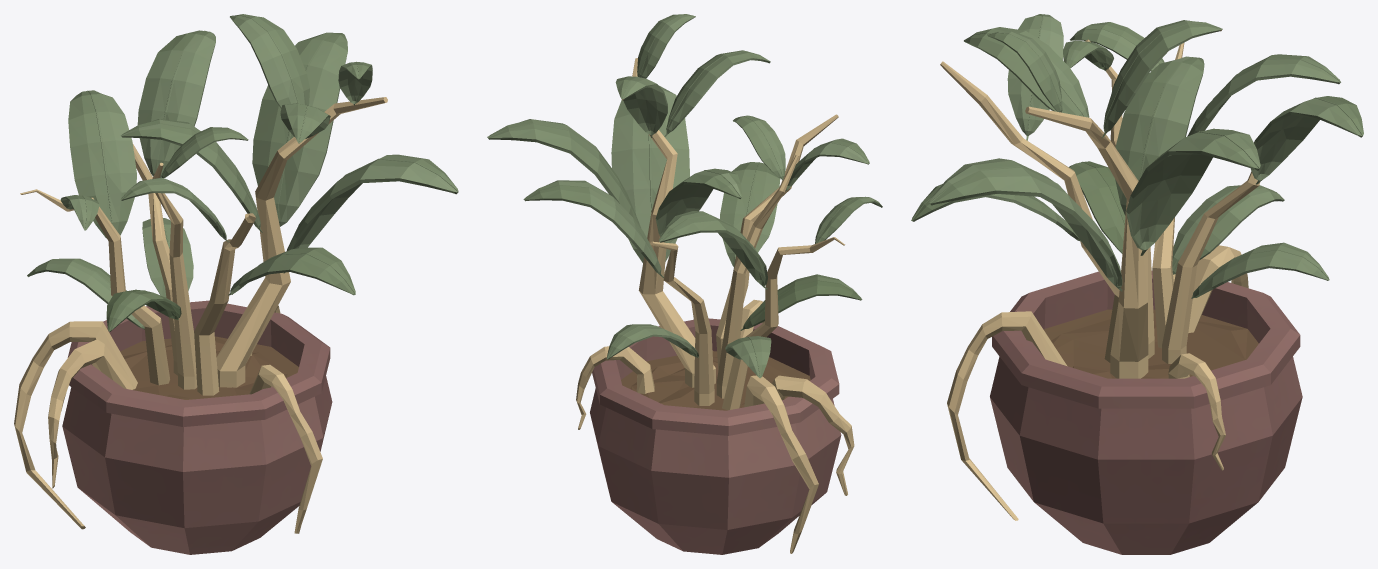
Rendered from plant_1.dae.
3 views of the same model, side by side, from view 1: azimuth 30°, elevation 25°; view 2: azimuth 150°, elevation 25°; view 3: azimuth 270°, elevation 25° (orthographic). The views are drawn at different scales.
Visible parts, largest first — view 1: plant_1; view 2: plant_1; view 3: plant_1.
Part boxes in pixels (box(x1,y1,x2,y2)): plant_1: box(14, 14, 458, 554); plant_1: box(487, 14, 882, 554); plant_1: box(911, 14, 1363, 554).
Size of the model in its own units: 0.6909 by 0.6761 by 0.898.
